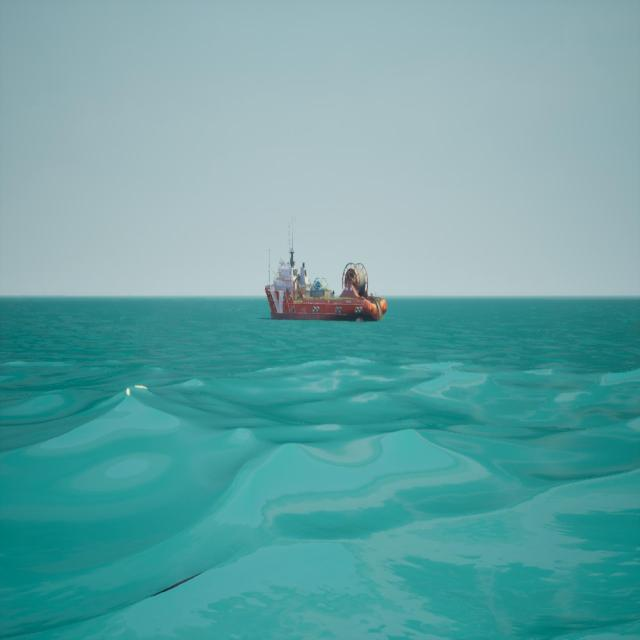tug boat: (263, 217, 387, 325)
